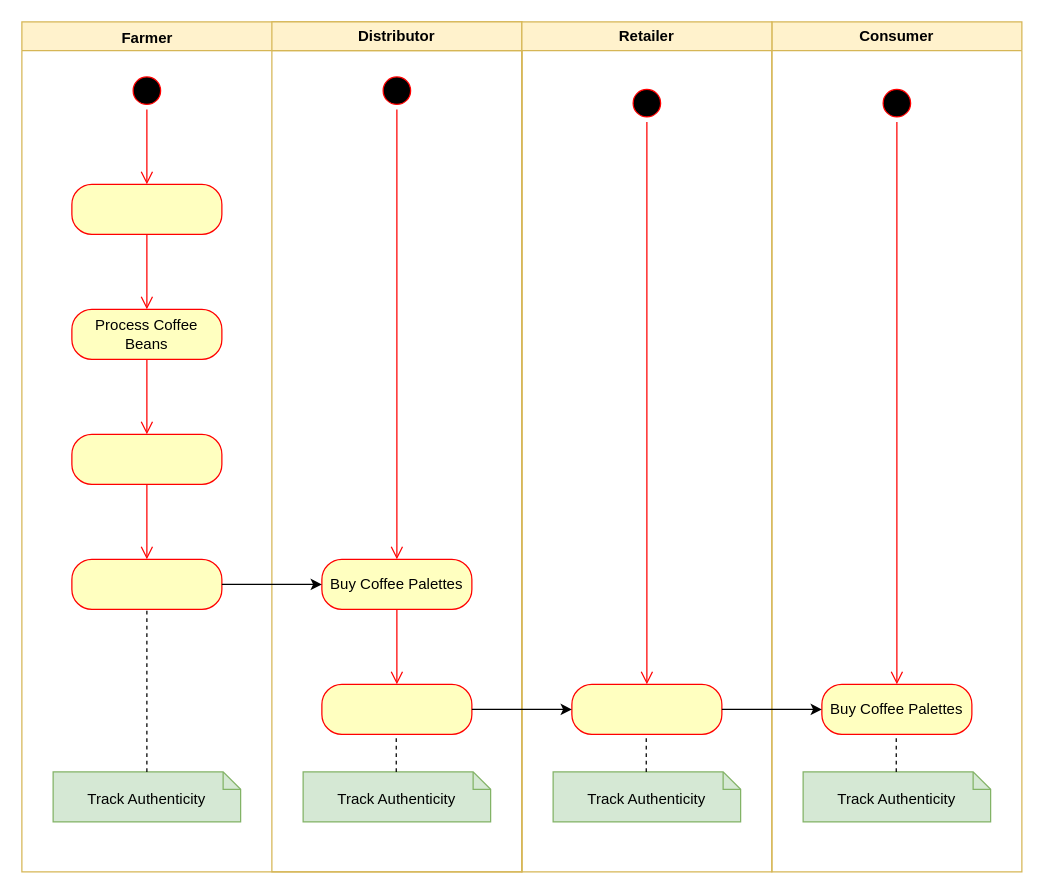
The diagram is 1044 pixels wide and 894 high, and some of its shapes have lost their labels. The centre of each missing label's shape, as x and y in pixels:
"Harvest Coffee Beans" belongs at (x=146, y=208).
"Pack Coffee Palettes" belongs at (x=146, y=458).
"Receive Coffee Palettes" belongs at (x=646, y=708).
"Sell Coffee Palettes" belongs at (x=146, y=583).
"Ship Coffee Palettes" belongs at (x=396, y=708).
